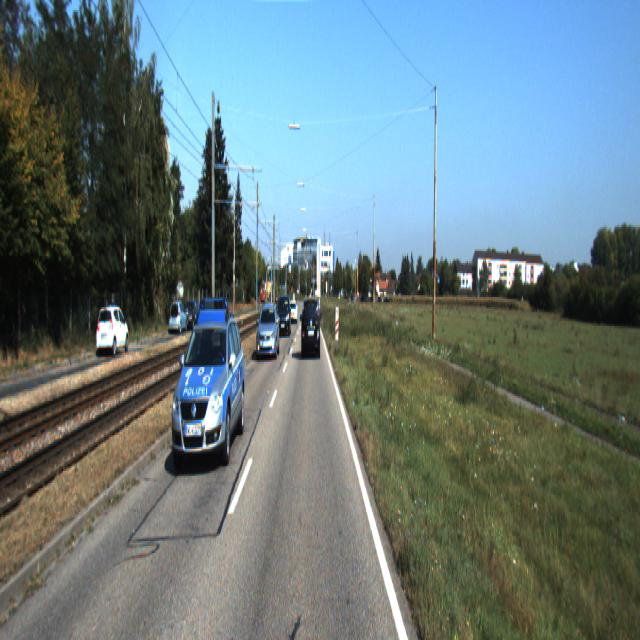Car: (170, 294, 249, 473), (96, 306, 130, 360), (257, 302, 280, 360), (302, 296, 321, 359), (169, 300, 188, 336), (182, 300, 201, 334), (277, 296, 291, 339), (289, 300, 298, 324)
